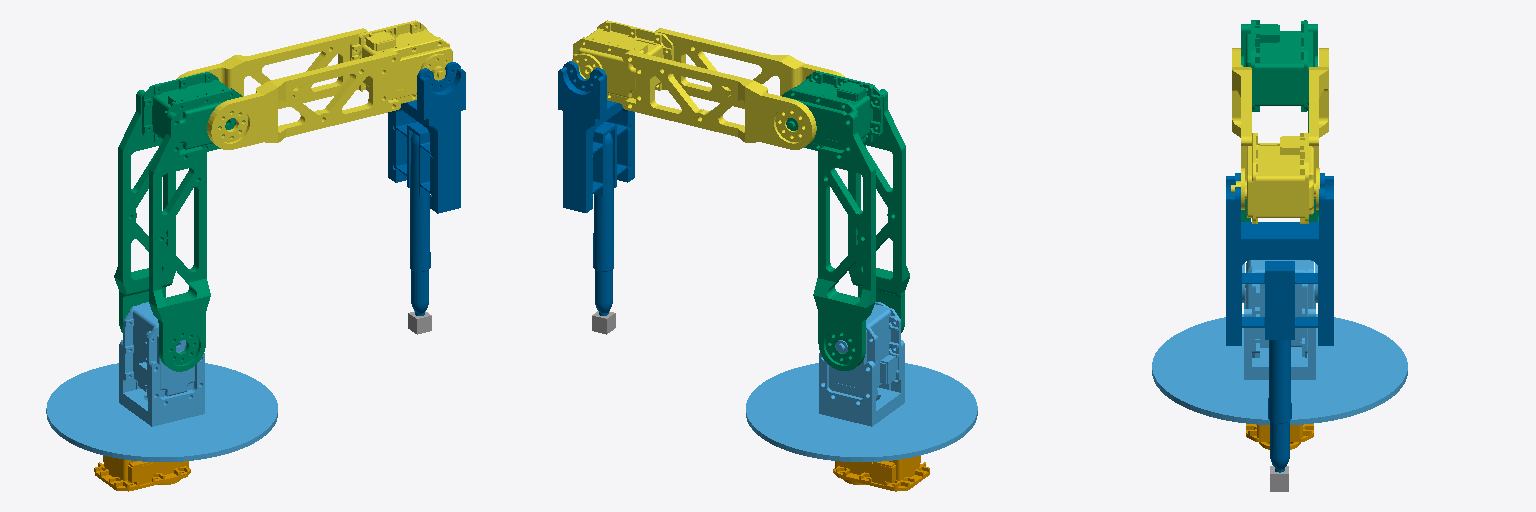
URDF robot description (doodlebot):
<?xml version="1.0" ?>
<!-- =================================================================================== -->
<!-- |    This document was autogenerated by xacro from [local-path]/catkin_ws/src/mae263a/urdf/doodlebot.urdf.xacro | -->
<!-- |    EDITING THIS FILE BY HAND IS NOT RECOMMENDED                                 | -->
<!-- =================================================================================== -->
<!-- Open_Manipulator Chain -->
<robot name="doodlebot">
  <!-- Link 1 -->
  <link name="link1">
    <visual>
      <origin rpy="0 0 0" xyz="-0.0386 -0.0178 -0.0207"/>
      <geometry>
        <mesh filename="package://mae263a/meshes/chain_link1.stl" scale="0.001 0.001 0.001"/>
      </geometry>
      <material name="grey"/>
    </visual>
    <collision>
      <origin rpy="0 0 0" xyz="0 0 0"/>
      <geometry>
        <mesh filename="package://mae263a/meshes/chain_link1.stl" scale="0.001 0.001 0.001"/>
      </geometry>
    </collision>
    <inertial>
      <origin xyz="3.0876154e-04 0.0000000e+00 -1.2176461e-04"/>
      <mass value="7.9119962e-02"/>
      <inertia ixx="1.2505234e-05" ixy="0.0" ixz="-1.7855208e-07" iyy="2.1898364e-05" iyz="0.0" izz="1.9267361e-05"/>
    </inertial>
  </link>
  <!-- Joint 1 -->
  <joint name="joint1" type="revolute">
    <parent link="link1"/>
    <child link="link2"/>
    <origin rpy="0 0 0" xyz="0.0 0.0 0.0"/>
    <axis xyz="0 0 1"/>
    <limit effort="1" lower="-2.827433388230814" upper="2.827433388230814" velocity="4.8"/>
  </joint>
  <!--  Link 2 -->
  <link name="link2">
    <visual>
      <origin rpy="0 0 0" xyz="-0.0675 -0.0675 0.0205"/>
      <geometry>
        <mesh filename="package://mae263a/meshes/chain_link2.stl" scale="0.001 0.001 0.001"/>
      </geometry>
      <material name="grey"/>
    </visual>
    <collision>
      <origin rpy="0 0 0" xyz="0 0 0"/>
      <geometry>
        <mesh filename="package://mae263a/meshes/chain_link2.stl" scale="0.001 0.001 0.001"/>
      </geometry>
    </collision>
    <inertial>
      <origin xyz="-3.0184870e-04 5.4043684e-04 0.047433463999999995"/>
      <mass value="9.8406837e-02"/>
      <inertia ixx="3.4543422e-05" ixy="-1.6031095e-08" ixz="-3.8375155e-07" iyy="3.2689329e-05" iyz="2.8511935e-08" izz="1.8850320e-05"/>
    </inertial>
  </link>
  <!--  Joint 2 -->
  <joint name="joint2" type="revolute">
    <parent link="link2"/>
    <child link="link3"/>
    <origin rpy="0 0 0" xyz="0.0 0.0 0.072475"/>
    <axis xyz="0 1 0"/>
    <limit effort="1" lower="-1.790707812546182" upper="1.5707963267948966" velocity="4.8"/>
  </joint>
  <!--  Link 3 -->
  <link name="link3">
    <visual>
      <origin rpy="0 0 0" xyz="-0.01795 -0.0257 -0.0145"/>
      <geometry>
        <mesh filename="package://mae263a/meshes/chain_link3.stl" scale="0.001 0.001 0.001"/>
      </geometry>
      <material name="grey"/>
    </visual>
    <collision>
      <origin rpy="0 0 0" xyz="0 0 0"/>
      <geometry>
        <mesh filename="package://mae263a/meshes/chain_link3.stl" scale="0.001 0.001 0.001"/>
      </geometry>
    </collision>
    <inertial>
      <origin xyz="1.0308393e-02 3.7743363e-04 1.0170197e-01"/>
      <mass value="1.3850917e-01"/>
      <inertia ixx="3.3055381e-04" ixy="-9.7940978e-08" ixz="-3.8505711e-05" iyy="3.4290447e-04" iyz="-1.5717516e-06" izz="6.0346498e-05"/>
    </inertial>
  </link>
  <!--  Joint 3 -->
  <joint name="joint3" type="revolute">
    <parent link="link3"/>
    <child link="link4"/>
    <origin rpy="0 0 0" xyz="0.033335 0 0.135"/>
    <axis xyz="0 1 0"/>
    <limit effort="1" lower="-0.9424777960769379" upper="1.382300767579509" velocity="4.8"/>
  </joint>
  <!--  Link 4 -->
  <link name="link4">
    <visual>
      <origin rpy="0 0 0" xyz="-0.015 -0.0257 -0.018"/>
      <geometry>
        <mesh filename="package://mae263a/meshes/chain_link4.stl" scale="0.001 0.001 0.001"/>
      </geometry>
      <material name="grey"/>
    </visual>
    <collision>
      <origin rpy="0 0 0" xyz="0 0 0"/>
      <geometry>
        <mesh filename="package://mae263a/meshes/chain_link4.stl" scale="0.001 0.001 0.001"/>
      </geometry>
    </collision>
    <inertial>
      <origin xyz="9.0909590e-02 3.8929816e-04 2.2413279e-04"/>
      <mass value="1.3274562e-01"/>
      <inertia ixx="3.0654178e-05" ixy="-1.2764155e-06" ixz="-2.6874417e-07" iyy="2.4230292e-04" iyz="1.1559550e-08" izz="2.5155057e-04"/>
    </inertial>
  </link>
  <!--  Joint 4 -->
  <joint name="joint4" type="revolute">
    <parent link="link4"/>
    <child link="link5"/>
    <origin rpy="0 0 0" xyz="0.140 0.0 0.0"/>
    <axis xyz="0 1 0"/>
    <limit effort="1" lower="-1.790707812546182" upper="2.0420352248333655" velocity="4.8"/>
  </joint>
  <!--  Link 5 -->
  <link name="link5">
    <visual>
      <origin rpy="3.141592653589793 0 0" xyz="-0.014 0.0287 0.00475"/>
      <geometry>
        <mesh filename="package://mae263a/meshes/chain_link5.stl" scale="0.001 0.001 0.001"/>
      </geometry>
      <material name="grey"/>
    </visual>
    <collision>
      <origin rpy="0 0 0" xyz="0 0 0"/>
      <geometry>
        <mesh filename="package://mae263a/meshes/chain_link5.stl" scale="0.001 0.001 0.001"/>
      </geometry>
    </collision>
    <inertial>
      <origin xyz="4.4206755e-02 3.6839985e-07 8.9142216e-03"/>
      <mass value="1.4327573e-01"/>
      <inertia ixx="8.0870749e-05" ixy="0.0" ixz="-1.0157896e-06" iyy="7.5980465e-05" iyz="0.0" izz="9.3127351e-05"/>
    </inertial>
  </link>
  <!--  Gripper joint (dummy)-->
  <joint name="gripper" type="prismatic">
    <parent link="link5"/>
    <child link="gripper_link"/>
    <origin rpy="0 0 0" xyz="0 0 0"/>
    <axis xyz="0 1 0"/>
    <limit effort="1" lower="-0.010" upper="0.019" velocity="4.8"/>
  </joint>
  <!--  Gripper link -->
  <link name="gripper_link">
    <visual>
      <origin rpy="0 0 0" xyz="0 0 0"/>
      <geometry>
        <box size="0.001 0.001 0.001"/>
      </geometry>
      <material name="grey"/>
    </visual>
    <inertial>
      <origin xyz="0 0 0"/>
      <mass value="1.0e-03"/>
      <inertia ixx="1.0e-03" ixy="0.0" ixz="0.0" iyy="1.0e-03" iyz="0.0" izz="1.0e-03"/>
    </inertial>
  </link>
  <!--  Gripper joint sub -->
  <joint name="gripper_sub" type="prismatic">
    <parent link="link5"/>
    <child link="gripper_link_sub"/>
    <origin rpy="0 0 0" xyz="0 0 0"/>
    <axis xyz="0 -1 0"/>
    <limit effort="1" lower="-0.010" upper="0.019" velocity="4.8"/>
    <mimic joint="gripper" multiplier="1"/>
  </joint>
  <!--  Gripper link sub -->
  <link name="gripper_link_sub">
    <visual>
      <origin rpy="0 0 0" xyz="0 0 0"/>
      <geometry>
        <box size="0.001 0.001 0.001"/>
      </geometry>
      <material name="grey"/>
    </visual>
    <inertial>
      <origin xyz="0 0 0"/>
      <mass value="1.0e-03"/>
      <inertia ixx="1.0e-03" ixy="0.0" ixz="0.0" iyy="1.0e-03" iyz="0.0" izz="1.0e-03"/>
    </inertial>
  </link>
  <!-- end effector joint -->
  <joint name="end_effector_joint" type="fixed">
    <origin rpy="0 0 0" xyz="0 0.0 -0.1687"/>
    <parent link="link5"/>
    <child link="end_effector_link"/>
  </joint>
  <!-- end effector link -->
  <link name="end_effector_link">
    <visual>
      <origin rpy="0 0 0" xyz="0 0 0"/>
      <geometry>
        <box size="0.01 0.01 0.01"/>
      </geometry>
      <material name="red"/>
    </visual>
    <inertial>
      <origin xyz="0 0 0"/>
      <mass value="1.0e-03"/>
      <inertia ixx="1.0e-03" ixy="0.0" ixz="0.0" iyy="1.0e-03" iyz="0.0" izz="1.0e-03"/>
    </inertial>
  </link>
</robot>

--- What the picture shows (computed from the rendered views, not written in the file) ---
Views: 3 orthographic renders of the robot side by side, from view 1: azimuth 30°, elevation 25°; view 2: azimuth 150°, elevation 25°; view 3: azimuth 270°, elevation 25°.
Model doodlebot with 8 links and 7 joints (4 revolute, 2 prismatic, 1 fixed), rooted at link1, posed all joints at 0.
Links seen in each view (by area): view 1: link2, link3, link4, link5, link1; view 2: link2, link3, link4, link5, link1; view 3: link2, link5, link4, link3, link1.
Link boxes in pixels (x1,y1,x2,y2): link2: (46,302,277,461); link3: (114,72,243,371); link4: (177,20,452,149); link5: (388,62,465,315); link1: (94,456,190,491); link2: (746,302,977,461); link3: (782,71,909,370); link4: (572,20,845,149); link5: (558,61,634,315); link1: (833,456,929,491); link2: (1152,260,1407,424); link5: (1226,173,1333,472); link4: (1231,48,1328,223); link3: (1241,20,1318,221); link1: (1246,424,1313,449).
Bounding box of the posed robot: 0.2548 × 0.135 × 0.2462 m (x, y, z).
Meshes: 5 distinct files referenced, 5 mesh visuals loaded (5 binary STL).